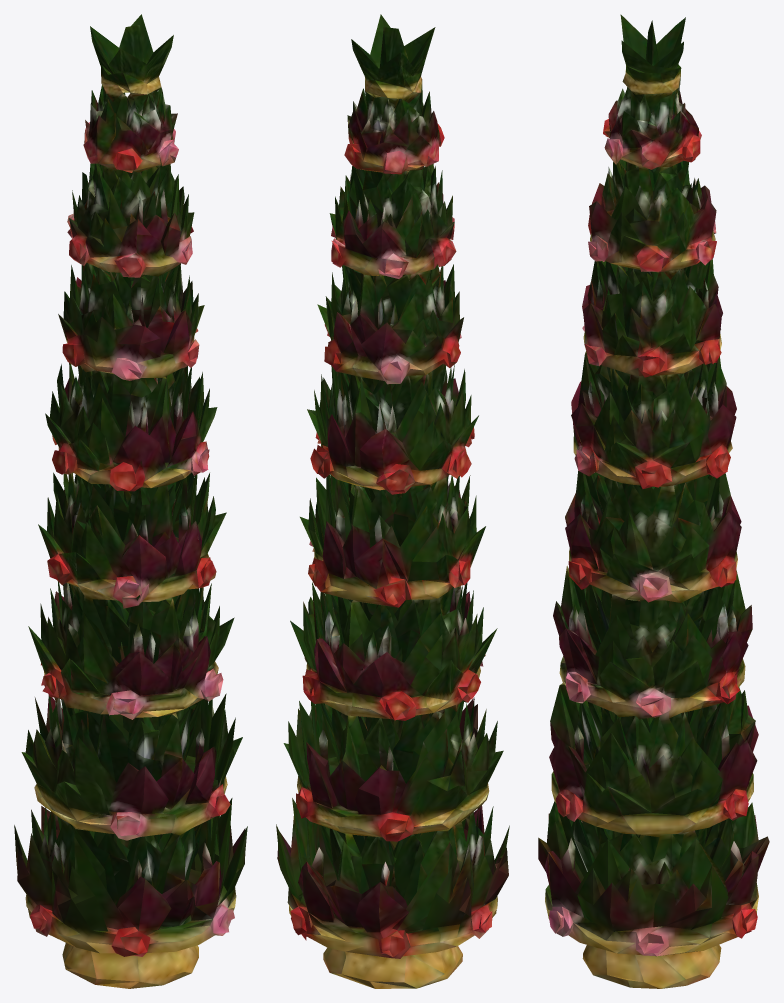
Rendered from w3hconetower.glb.
3 renders of one model, left to right at view 1: azimuth 30°, elevation 25°; view 2: azimuth 150°, elevation 25°; view 3: azimuth 270°, elevation 25°, orthographic.
Visible parts, largest first — view 1: output_unwrapped; view 2: output_unwrapped; view 3: output_unwrapped.
Boxes of the visible parts, box(x1,y1,x2,y2) form: output_unwrapped: box(14, 14, 247, 988); output_unwrapped: box(276, 14, 509, 988); output_unwrapped: box(538, 14, 769, 988).
Size of the model in its own units: 0.308 by 1.45 by 0.3241.
1 material, 1 textured.
